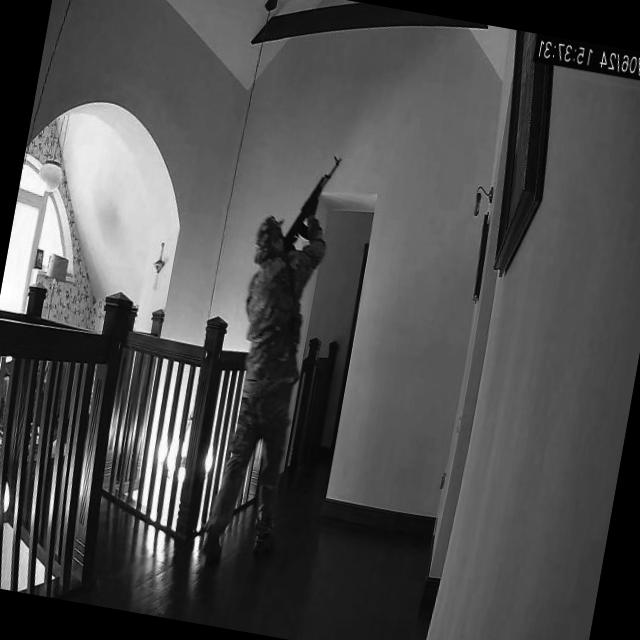gun: (283, 144, 344, 250)
person with a gun: (194, 140, 344, 578)
